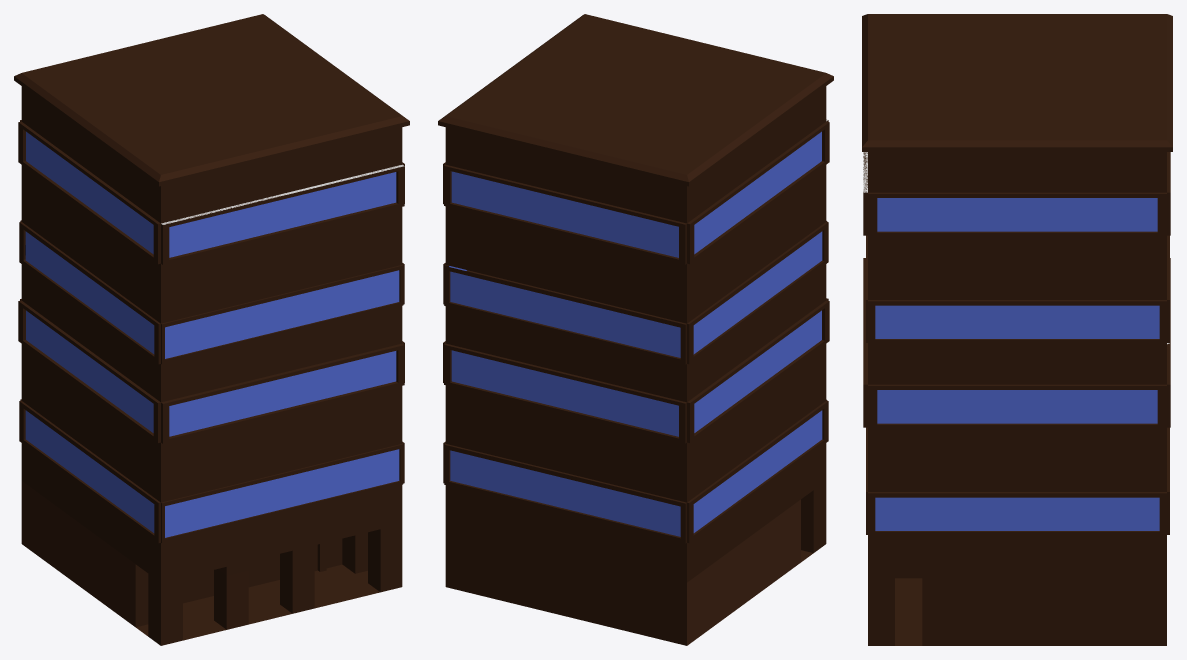
The model's file is ビル3色違い.fbx.
The picture shows the model from 3 angles, left to right: view 1: azimuth 30°, elevation 25°; view 2: azimuth 150°, elevation 25°; view 3: azimuth 270°, elevation 25°; orthographic projection. The views are drawn at different scales.
Parts seen in each view (by area): view 1: ビル3; view 2: ビル3; view 3: ビル3.
Boxes of the visible parts, bbox=[...] form: ビル3: bbox=[14, 14, 409, 645]; ビル3: bbox=[438, 14, 833, 645]; ビル3: bbox=[862, 14, 1172, 645].
Bounding box in the file's own units: 2493 × 4472 × 2493.
